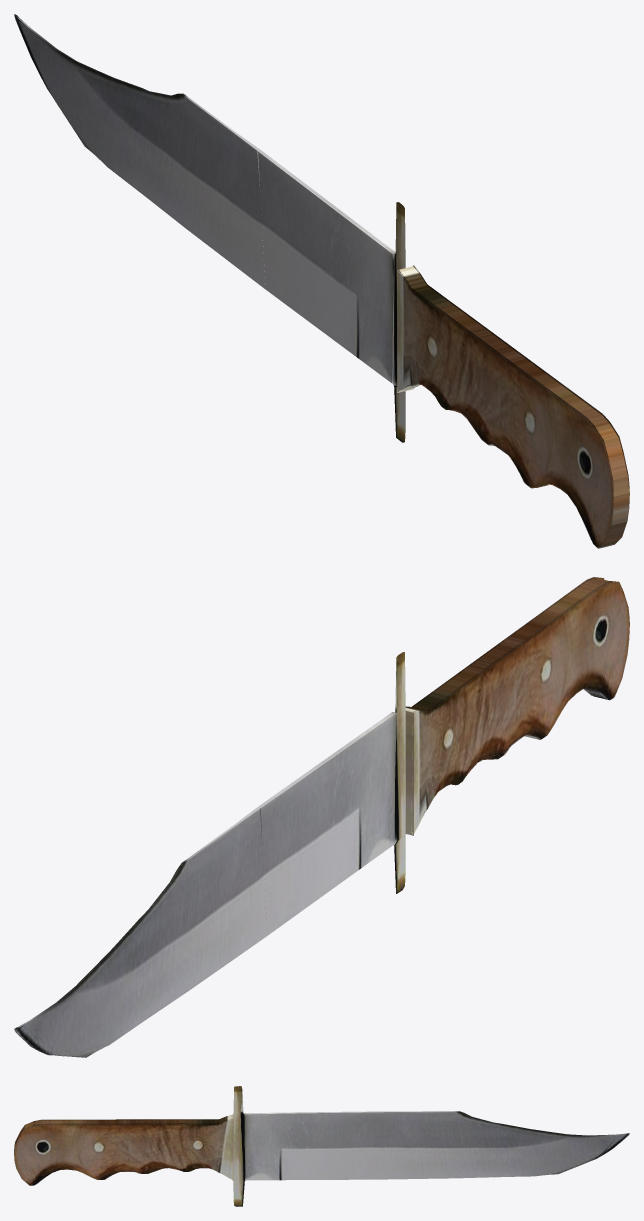
Rendered from Model Low Poly Knife.FBX.
3 views of the same model, one above another, from view 1: azimuth 30°, elevation 25°; view 2: azimuth 150°, elevation 25°; view 3: azimuth 270°, elevation 25° (orthographic). The views are drawn at different scales.
Visible parts, largest first — view 1: Plane; view 2: Plane; view 3: Plane.
Boxes of the visible parts, bbox=[...] form: Plane: bbox=[14, 14, 629, 548]; Plane: bbox=[14, 577, 629, 1057]; Plane: bbox=[14, 1086, 629, 1206].
Bounding box in the file's own units: 15.03 × 206 × 952.
Materials: 1 (1 with a texture image).
